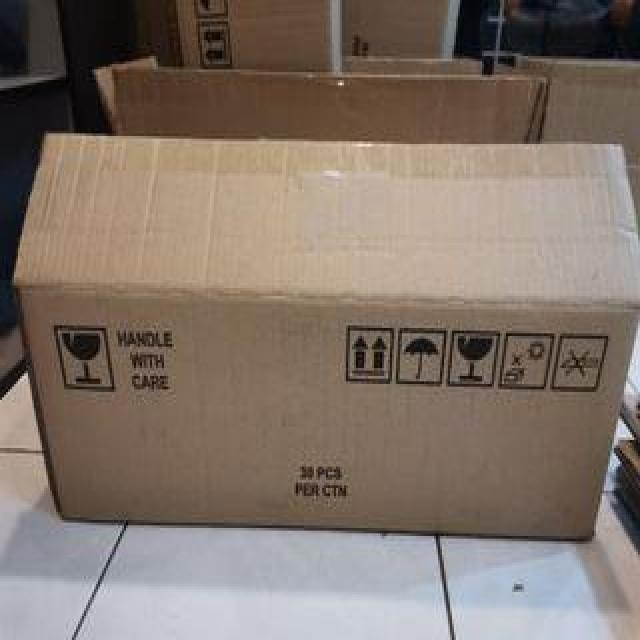cardboard: (12, 64, 639, 545)
